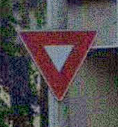cedeaza: (18, 26, 97, 103)
